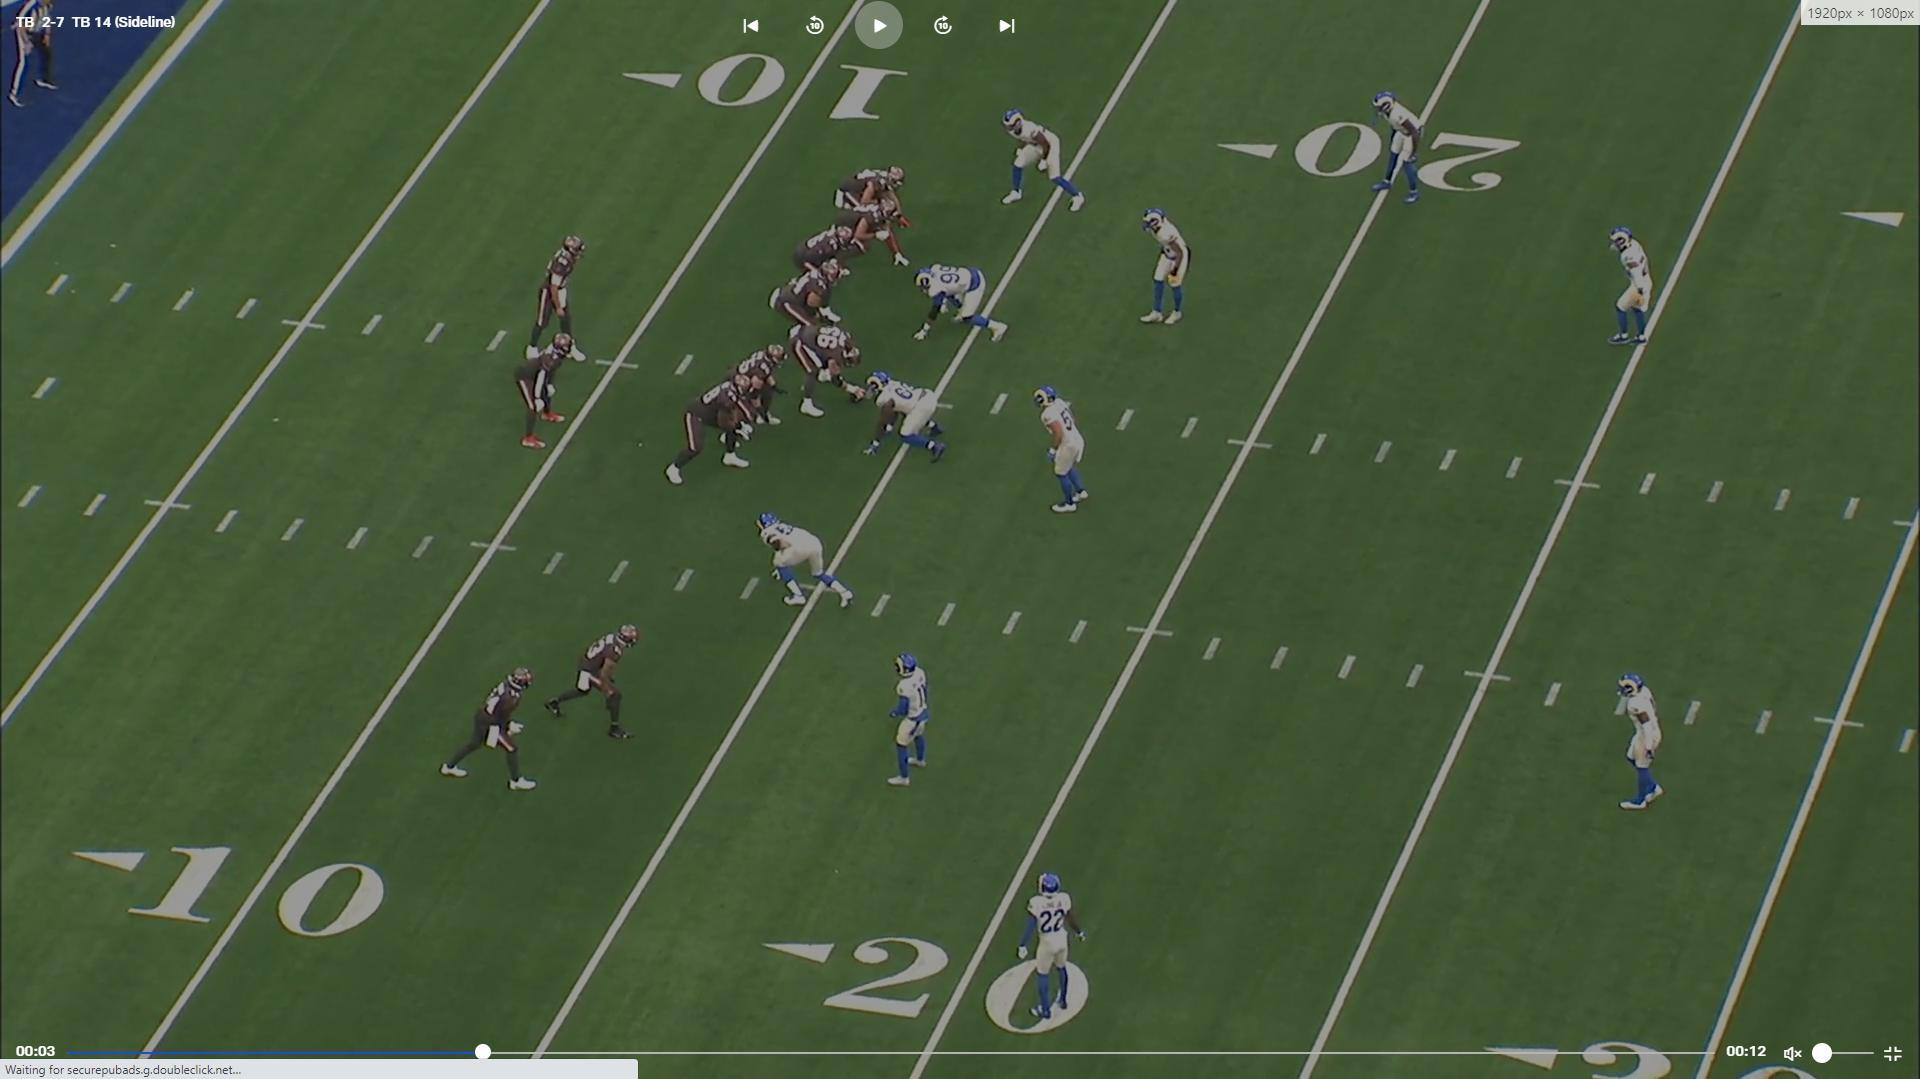defense: (1015, 870, 1091, 1033), (756, 508, 865, 614), (1001, 107, 1095, 218), (854, 363, 946, 463), (877, 647, 936, 799), (912, 260, 1013, 345), (1034, 377, 1092, 518), (1620, 669, 1671, 823), (1369, 85, 1430, 208), (1141, 201, 1195, 331), (1603, 225, 1658, 352)
oline: (668, 369, 765, 487), (794, 321, 878, 416), (725, 340, 781, 437), (775, 265, 846, 333), (798, 221, 864, 279)
qb: (534, 231, 595, 362)
ref: (0, 1, 59, 111)
skill: (440, 660, 545, 798), (538, 617, 643, 745), (525, 329, 587, 456), (833, 166, 914, 252), (827, 198, 913, 276)
